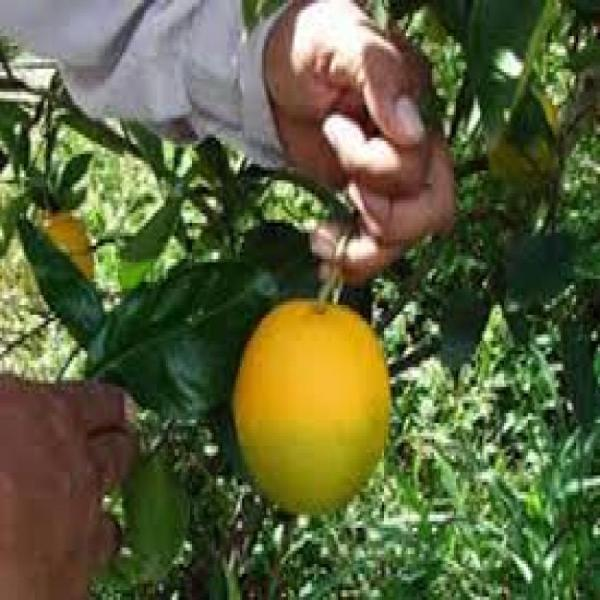Greening: (230, 288, 393, 527)
